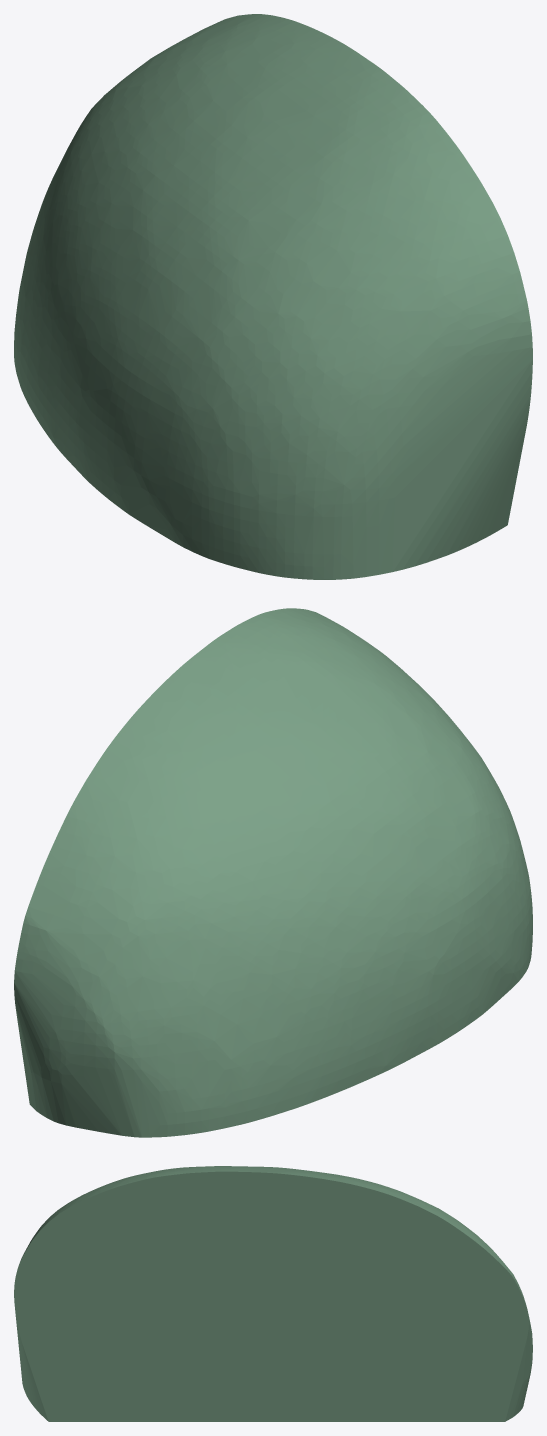
The model's file is convex_piece_0.obj.
3 renders of one model, top to bottom at view 1: azimuth 30°, elevation 25°; view 2: azimuth 150°, elevation 25°; view 3: azimuth 270°, elevation 25°, orthographic. The views are drawn at different scales.
Size of the model in its own units: 0.0297 by 0.0374 by 0.0703.
